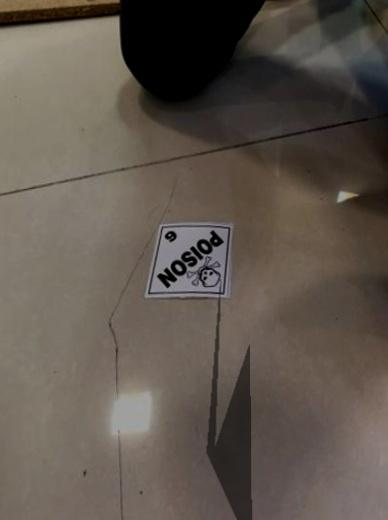poison: (143, 221, 236, 304)
